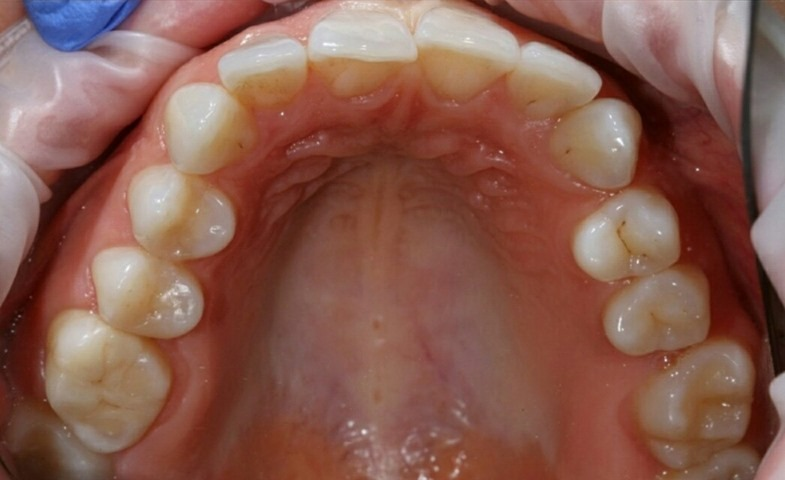UL1BC_decay: (574, 189, 678, 280)
UL1M_healthy: (640, 344, 753, 460)
UL2BC_healthy: (606, 270, 708, 355)
ULCI_healthy: (419, 10, 517, 95)
ULC_healthy: (555, 100, 639, 186)
ULLI_healthy: (516, 42, 600, 118)
UR1BC_healthy: (131, 164, 234, 258)
UR1M_healthy: (45, 311, 168, 451)
UR2BC_healthy: (94, 248, 204, 338)
URCI_healthy: (310, 14, 417, 92)
URC_healthy: (167, 85, 250, 174)
URLI_healthy: (220, 38, 305, 103)
